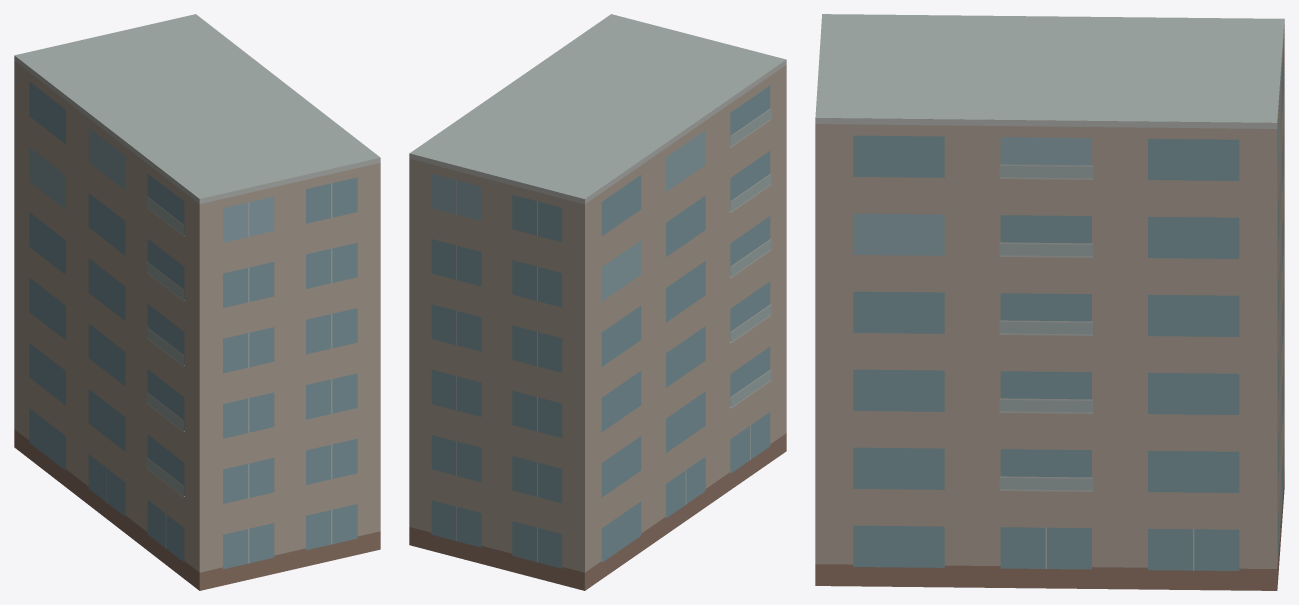
Rendered from survey-upis-33030888.glb.
3 views of the same model, side by side, from view 1: azimuth 30°, elevation 25°; view 2: azimuth 150°, elevation 25°; view 3: azimuth 270°, elevation 25° (orthographic). The views are drawn at different scales.
Parts seen in each view (by area): view 1: survey-upis-33030888.tmp; view 2: survey-upis-33030888.tmp; view 3: survey-upis-33030888.tmp.
Part boxes in pixels (x1,y1,x2,y2): survey-upis-33030888.tmp: [14, 14, 380, 590]; survey-upis-33030888.tmp: [409, 14, 786, 590]; survey-upis-33030888.tmp: [815, 14, 1284, 590].
Size of the model in its own units: 9.24 by 18.5 by 16.82.
